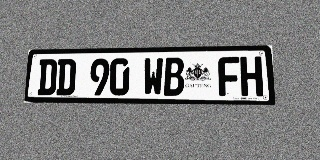0: (109, 58, 130, 96)
9: (89, 58, 110, 95)
B: (164, 57, 184, 96)
D: (37, 59, 58, 95), (56, 59, 76, 95)
F: (218, 57, 240, 96)
H: (240, 56, 263, 96)
W: (143, 58, 163, 96)
